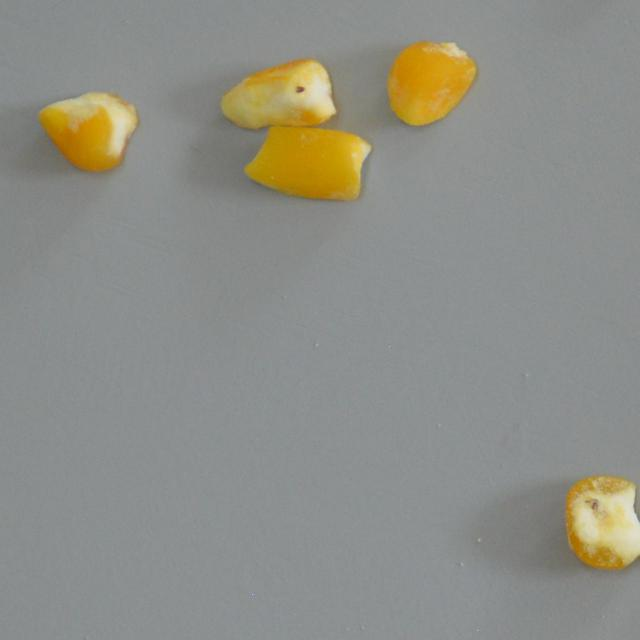dañado: (565, 476, 640, 569)
estandar: (242, 126, 371, 202), (36, 90, 140, 172)
pelicula: (386, 38, 476, 125)
punto_negro: (217, 58, 336, 130)
